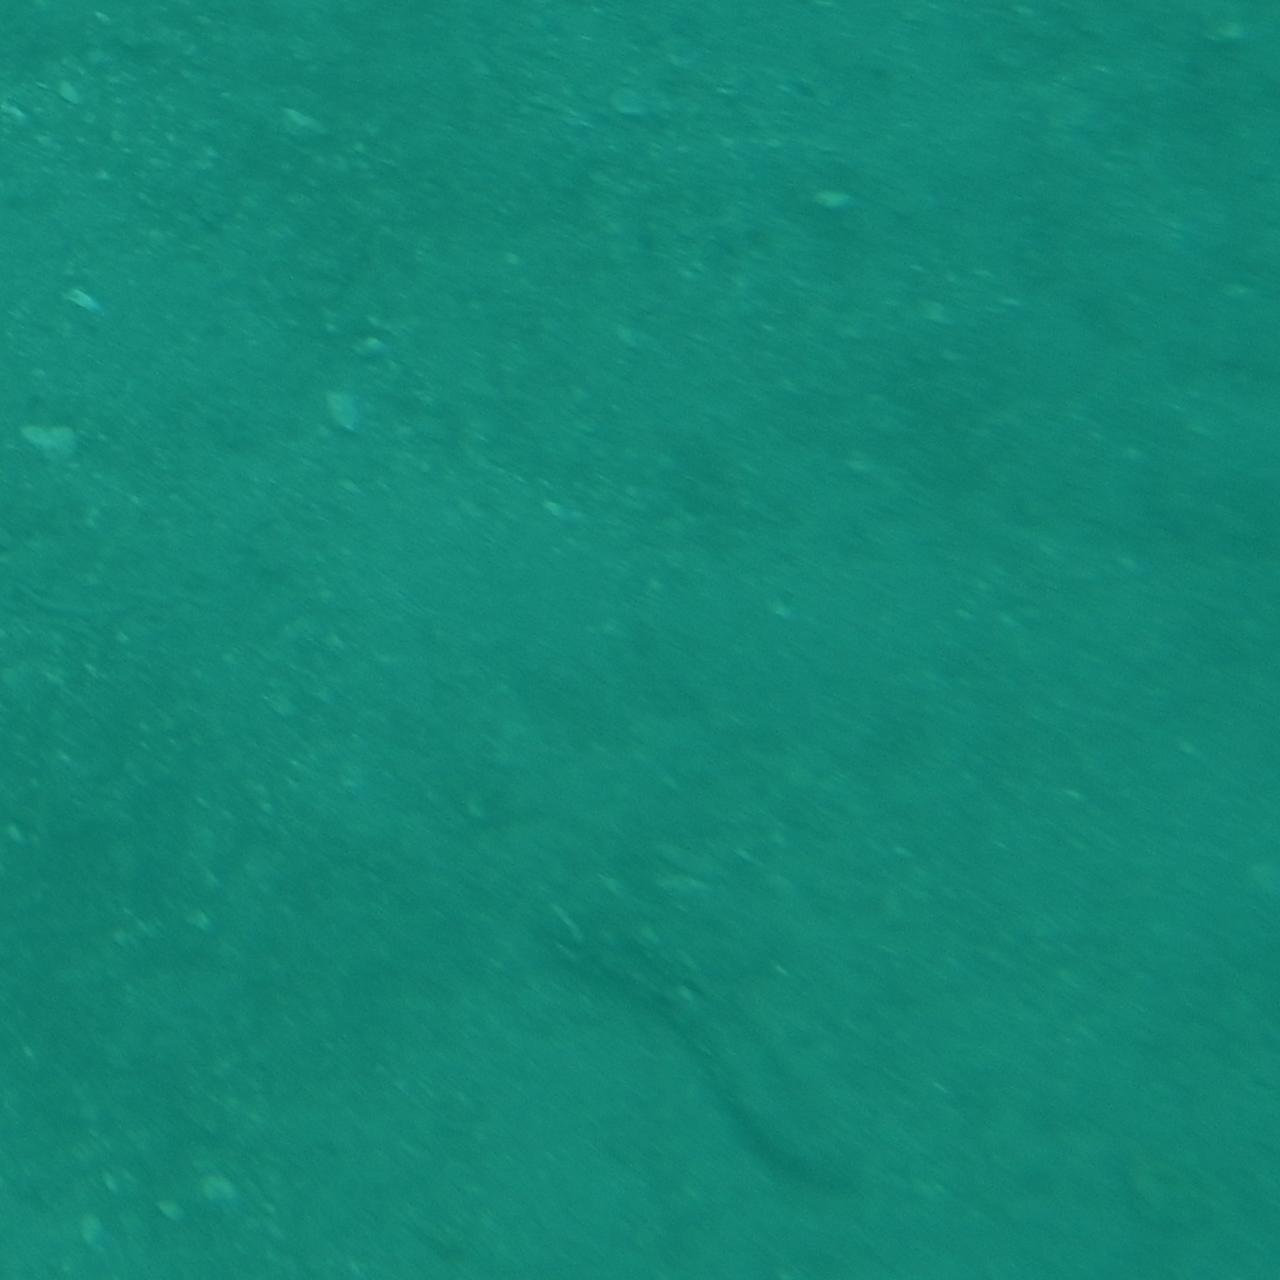Holothuria tubulosa: (538, 906, 878, 1200)
